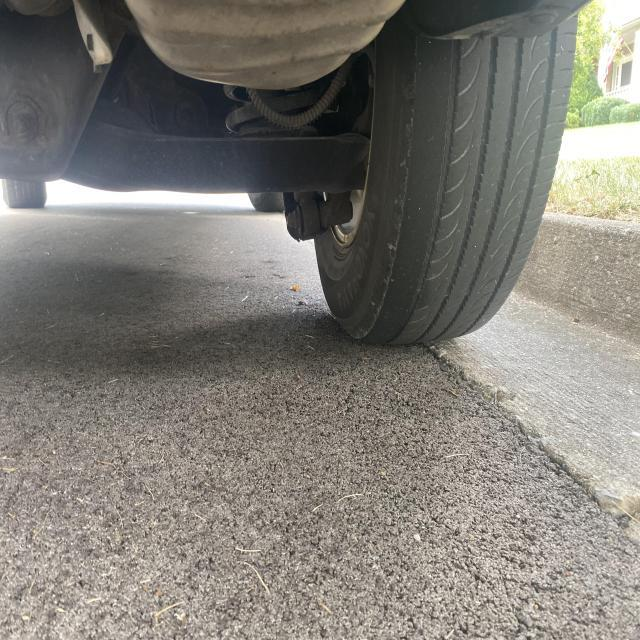Flat spots: (397, 43, 475, 329), (482, 46, 537, 232)
